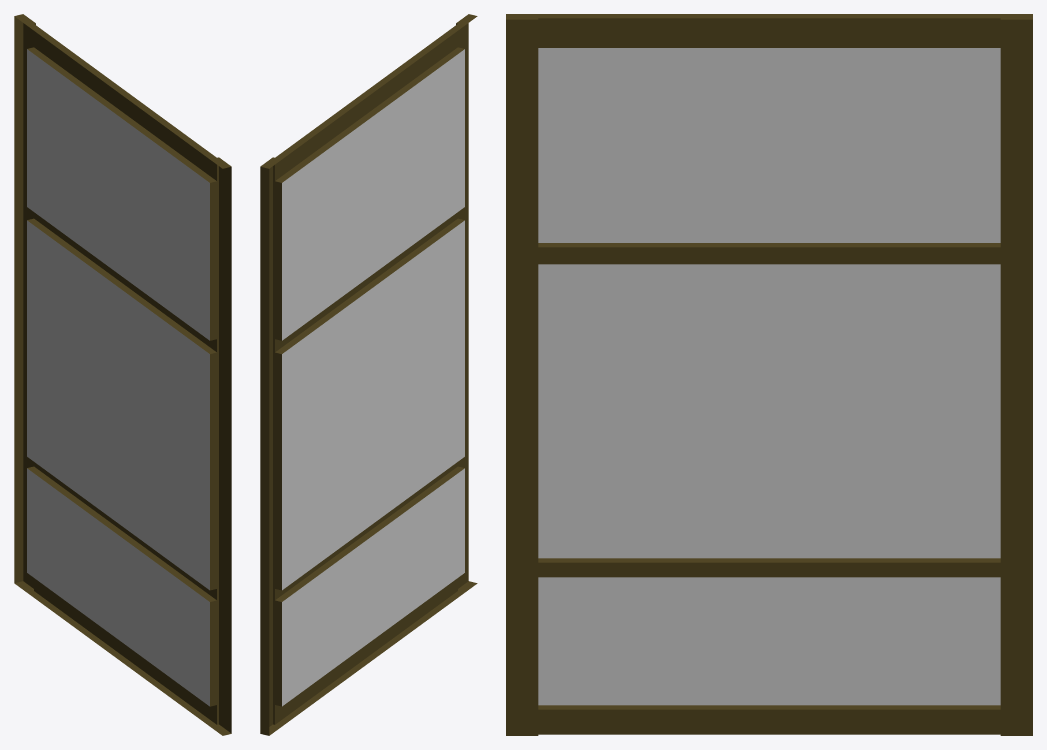
Rendered from GB_Wall_2Stripe_2M.fbx.
The picture shows the model from 3 angles, left to right: view 1: azimuth 30°, elevation 25°; view 2: azimuth 150°, elevation 25°; view 3: azimuth 270°, elevation 25°; orthographic projection. The views are drawn at different scales.
Visible parts, largest first — view 1: Wall_Plaster; view 2: Wall_Plaster; view 3: Wall_Plaster.
Part boxes in pixels (bbox=[...]): Wall_Plaster: bbox=[14, 14, 231, 735]; Wall_Plaster: bbox=[260, 14, 477, 735]; Wall_Plaster: bbox=[506, 14, 1032, 735].
Bounding box in the file's own units: 0.05 × 3 × 2.
